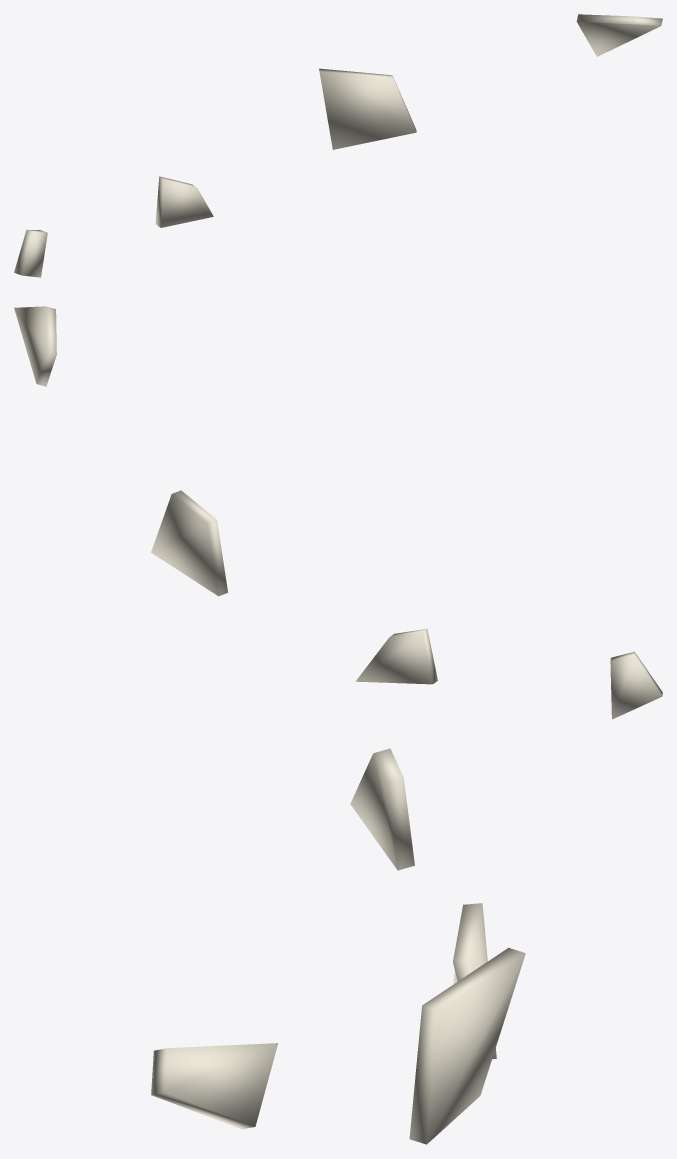
3 renders of one model, top to bottom at view 1: azimuth 30°, elevation 25°; view 2: azimuth 150°, elevation 25°; view 3: azimuth 270°, elevation 25°, orthographic. The views are drawn at different scales.
Parts seen in each view (by area): view 1: ZA_8c8ac0e7ea236cb3; view 2: ZA_8c8ac0e7ea236cb3; view 3: ZA_8c8ac0e7ea236cb3.
Part boxes in pixels (bbox=[...]): ZA_8c8ac0e7ea236cb3: bbox=[14, 14, 662, 277]; ZA_8c8ac0e7ea236cb3: bbox=[14, 306, 662, 719]; ZA_8c8ac0e7ea236cb3: bbox=[151, 748, 525, 1144].
Bounding box in the file's own units: 0.0356 × 0.00986 × 0.00965.
